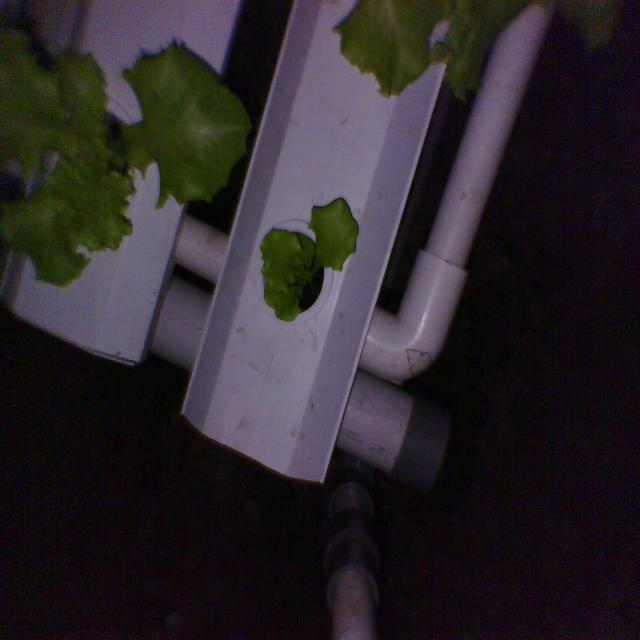FN: (0, 14, 256, 290), (251, 194, 364, 331)
